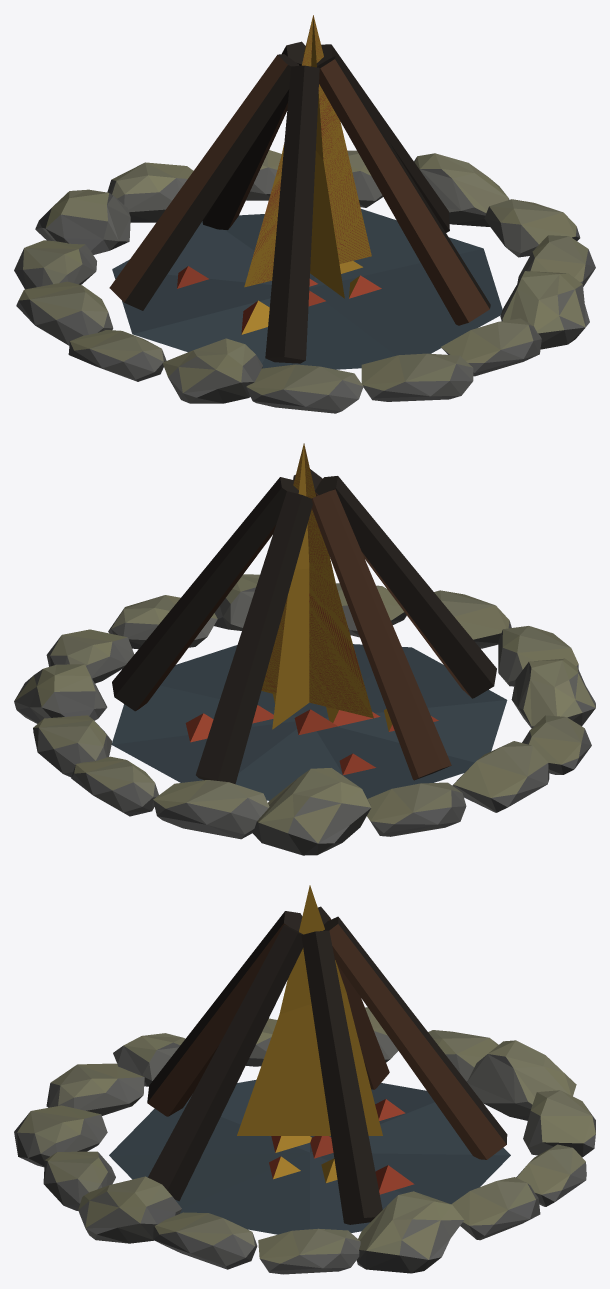
File: campfire.glb
3 renders of one model, top to bottom at view 1: azimuth 30°, elevation 25°; view 2: azimuth 150°, elevation 25°; view 3: azimuth 270°, elevation 25°, orthographic.
Visible parts, largest first — view 1: campfire; view 2: campfire; view 3: campfire.
Boxes of the visible parts, x1,y1,x2,y2 form: campfire: (14,15,595,413); campfire: (14,443,595,855); campfire: (14,885,595,1274).
Size of the model in its own units: 0.9544 by 0.51 by 0.9548.
